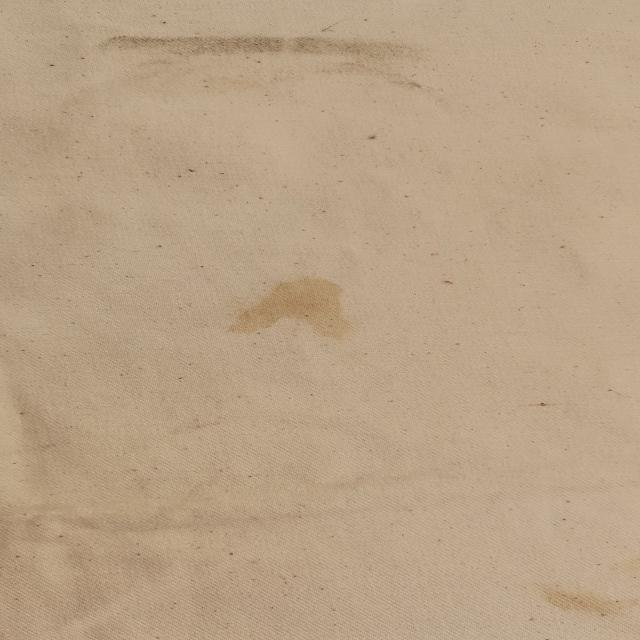taaaches: (79, 24, 502, 94), (205, 258, 376, 352), (544, 586, 622, 620)
